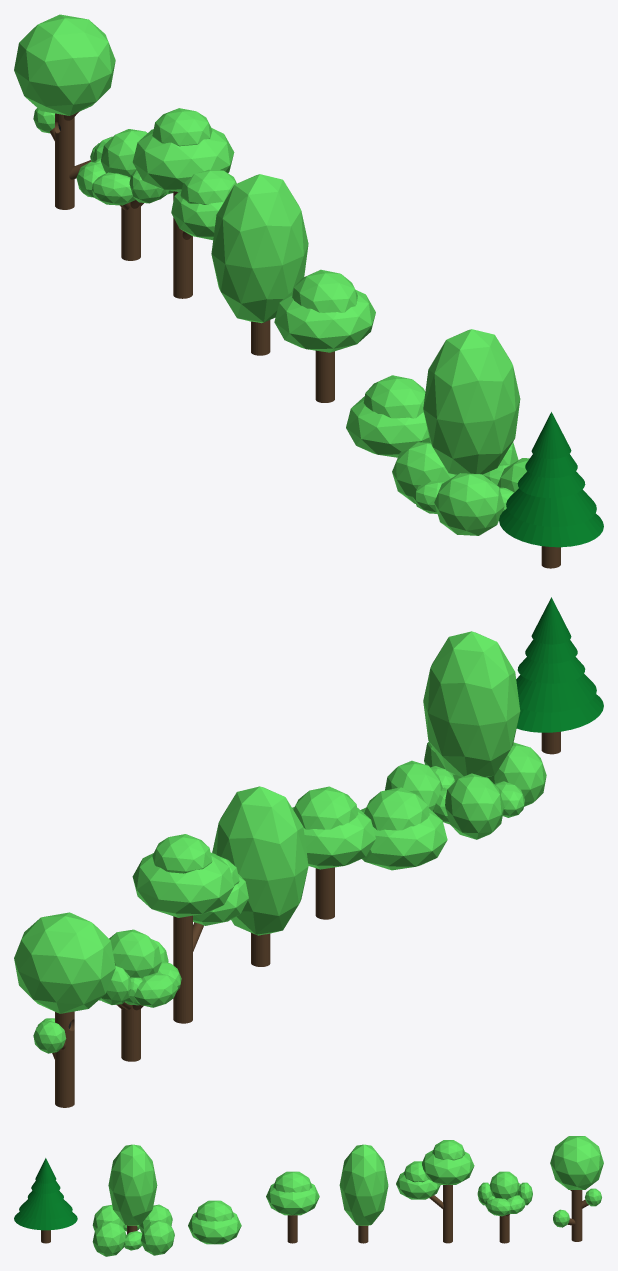
The model's file is treeBee.fbx.
3 renders of one model, top to bottom at view 1: azimuth 30°, elevation 25°; view 2: azimuth 150°, elevation 25°; view 3: azimuth 270°, elevation 25°, orthographic. The views are drawn at different scales.
Parts seen in each view (by area): view 1: Icosphere.030, Icosphere.014, Icosphere, Icosphere.015, Icosphere.013, Icosphere.021, Icosphere.020, Cone.003, Cone.004, Icosphere.016, Icosphere.019, Icosphere.023 (+12 smaller); view 2: Icosphere.030, Icosphere.014, Icosphere, Icosphere.013, Icosphere.020, Icosphere.023, Icosphere.015, Cone.003, Icosphere.019, Icosphere.016, Icosphere.021, Cylinder.015 (+15 smaller); view 3: Icosphere.030, Icosphere.014, Icosphere, Icosphere.013, Icosphere.015, Icosphere.020, Icosphere.028, Icosphere.027, Cone.003, Icosphere.012, Cone.004, Icosphere.003 (+21 smaller).
Part boxes in pixels (box(x1,y1,x2,y2)): Icosphere.030: box(423, 329, 520, 474); Icosphere.014: box(211, 174, 308, 323); Icosphere: box(14, 14, 115, 115); Icosphere.015: box(274, 290, 375, 352); Icosphere.013: box(132, 128, 234, 191); Icosphere.021: box(434, 473, 504, 535); Icosphere.020: box(346, 396, 430, 457); Cone.003: box(506, 488, 596, 526); Cone.004: box(499, 508, 603, 547); Icosphere.016: box(292, 269, 357, 312); Icosphere.019: box(363, 375, 425, 418); Icosphere.023: box(392, 442, 456, 503); Icosphere.030: box(423, 631, 520, 777); Icosphere.014: box(212, 786, 308, 935); Icosphere: box(14, 912, 115, 1013); Icosphere.013: box(132, 852, 234, 917); Icosphere.020: box(360, 807, 447, 870); Icosphere.023: box(445, 773, 504, 839); Icosphere.015: box(292, 807, 375, 869); Cone.003: box(516, 674, 596, 712); Icosphere.019: box(364, 787, 429, 830); Icosphere.016: box(293, 786, 358, 829); Icosphere.021: box(487, 742, 546, 806); Cylinder.015: box(173, 915, 192, 1023); Icosphere.030: box(108, 1144, 157, 1225); Icosphere.014: box(339, 1144, 388, 1225); Icosphere: box(550, 1136, 603, 1189); Icosphere.013: box(422, 1150, 474, 1184); Icosphere.015: box(266, 1183, 319, 1215); Icosphere.020: box(188, 1212, 241, 1244); Icosphere.028: box(141, 1220, 174, 1255); Icosphere.027: box(92, 1221, 126, 1256); Cone.003: box(19, 1199, 72, 1219); Icosphere.012: box(396, 1172, 440, 1199); Cone.004: box(14, 1212, 77, 1230); Icosphere.003: box(489, 1171, 519, 1199).
Size of the model in its own units: 1417 by 2194 by 10898.
